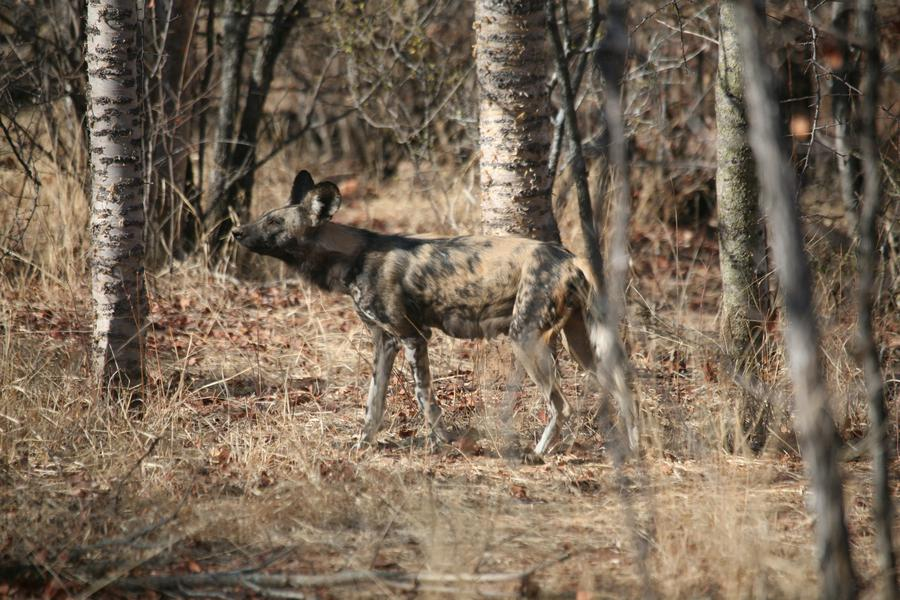wilddog: (242, 174, 584, 435)
